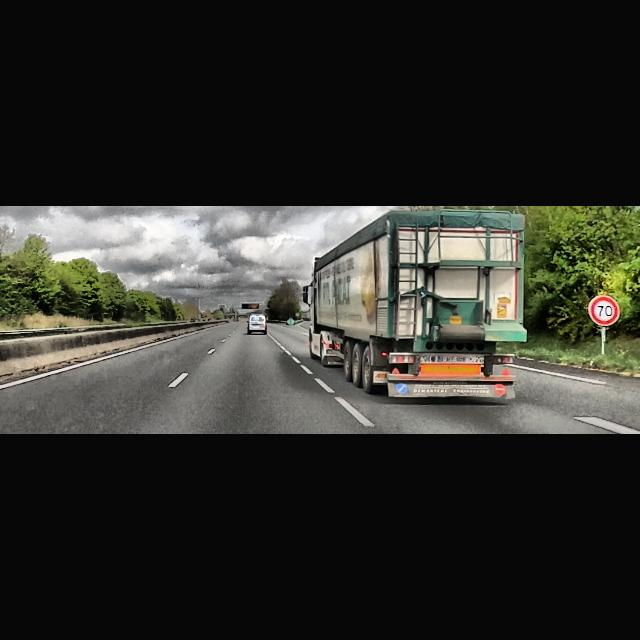speed_70: (590, 296, 619, 325)
